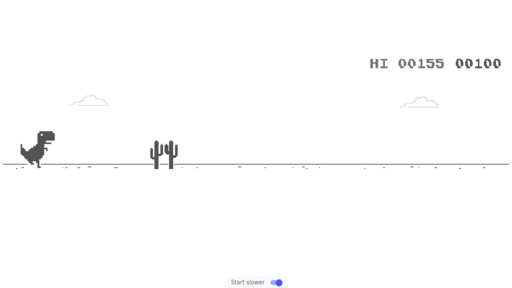dino: (19, 131, 56, 168)
tree: (150, 140, 178, 170)
